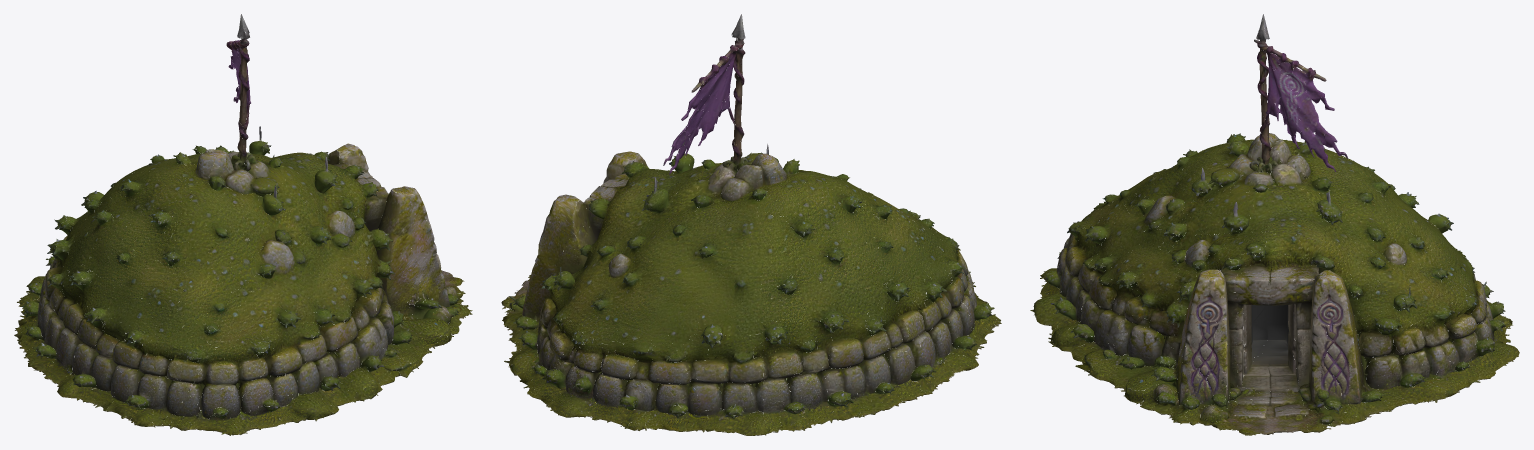
The model's file is burial-mound-tripo.glb.
The picture shows the model from 3 angles, left to right: view 1: azimuth 30°, elevation 25°; view 2: azimuth 150°, elevation 25°; view 3: azimuth 270°, elevation 25°; orthographic projection. The views are drawn at different scales.
Parts seen in each view (by area): view 1: tripo_node_c9dbe5d4-8974-4cd4-8feb-f723ce48d618; view 2: tripo_node_c9dbe5d4-8974-4cd4-8feb-f723ce48d618; view 3: tripo_node_c9dbe5d4-8974-4cd4-8feb-f723ce48d618.
Boxes of the visible parts, bbox=[...] form: tripo_node_c9dbe5d4-8974-4cd4-8feb-f723ce48d618: bbox=[14, 14, 472, 435]; tripo_node_c9dbe5d4-8974-4cd4-8feb-f723ce48d618: bbox=[501, 14, 1001, 435]; tripo_node_c9dbe5d4-8974-4cd4-8feb-f723ce48d618: bbox=[1030, 14, 1519, 435].
Bounding box in the file's own units: 1 × 0.7145 × 0.9989.
Materials: 1 (1 with a texture image).
